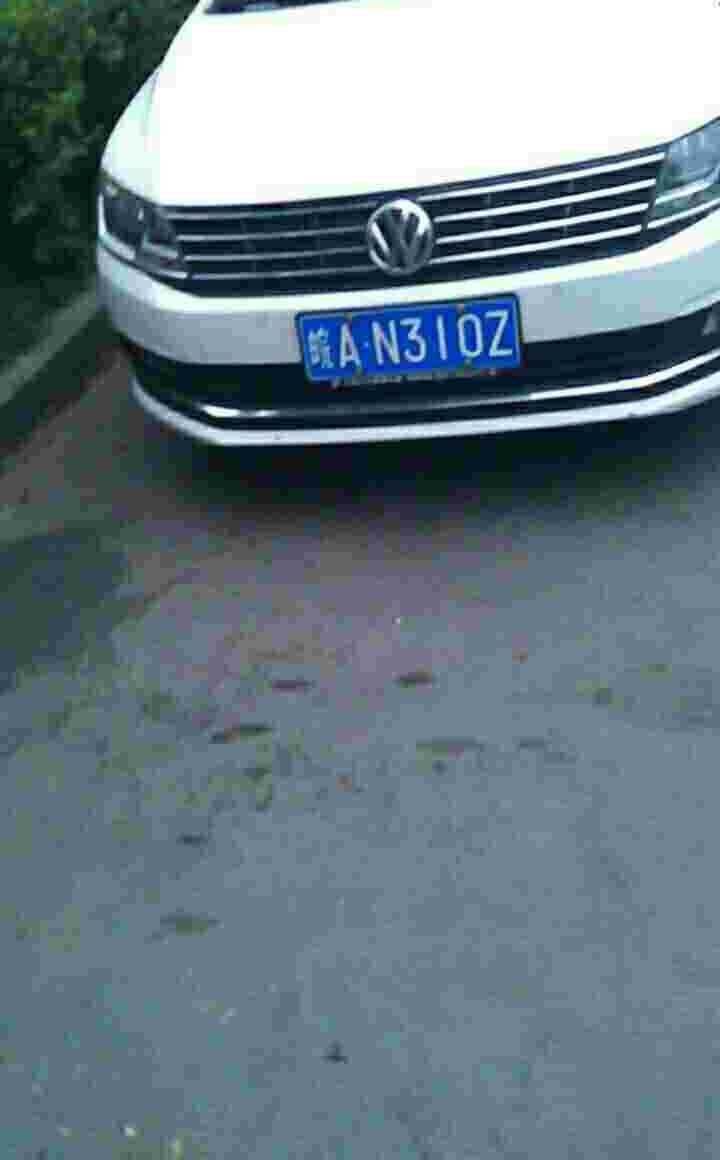plate: (298, 295, 526, 386)
